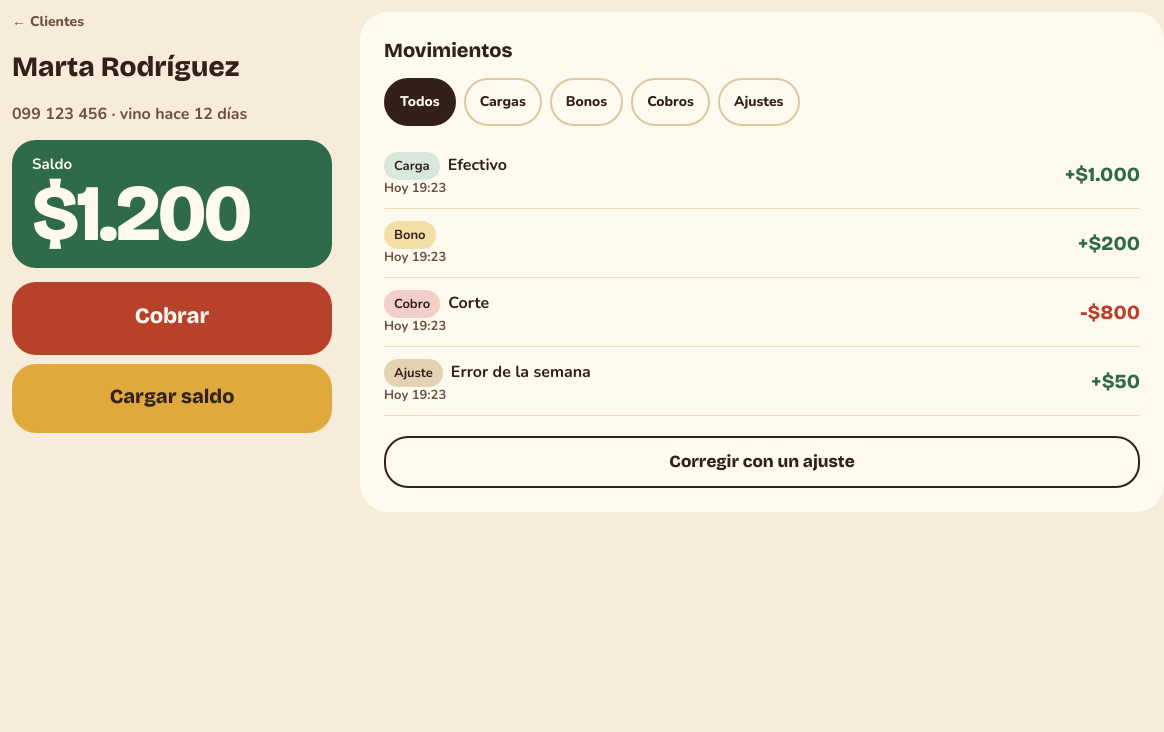
Test: Ficha del cliente › filtra por tipo y marca el filtro activo
Expected: the text "+$1.000" is shown, [1065,160,1140,188]
Click the button "Cobros" at (671,102), box [631,78,710,126]
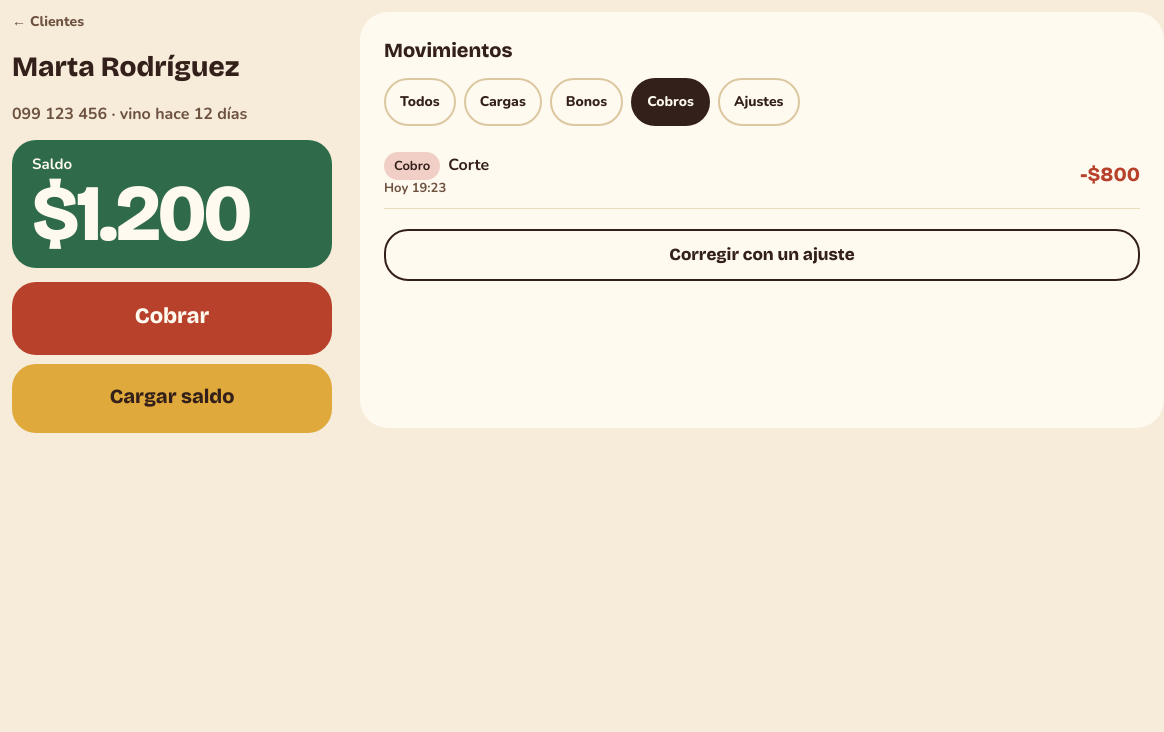
Expected: the text "-$800" is shown, [1080,160,1140,188]
Expected: the text "+$1.000" is gone
